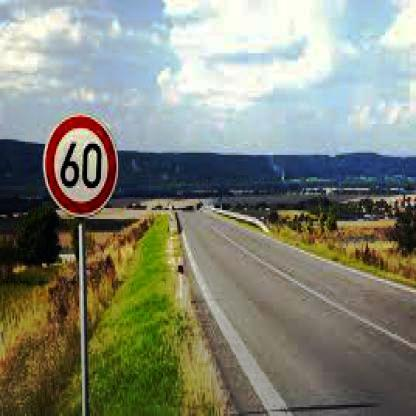Speed Limit -60-: (42, 113, 117, 217)
